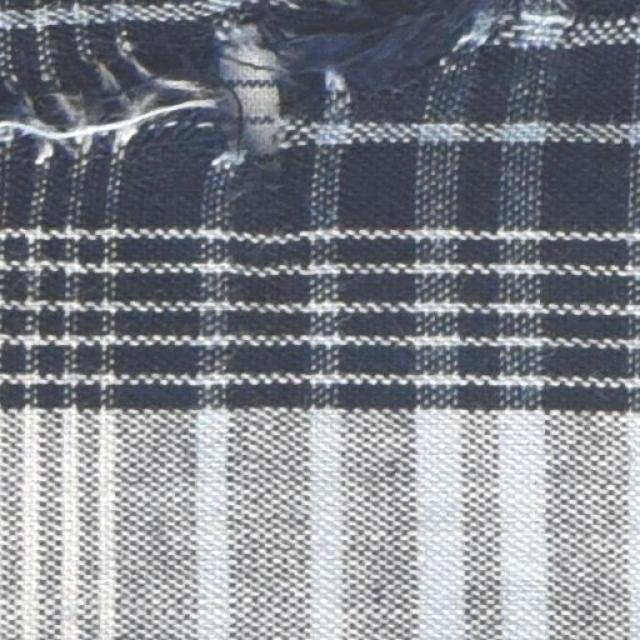Hole: (212, 34, 277, 151)
Snag: (0, 32, 248, 183), (249, 1, 581, 113)
